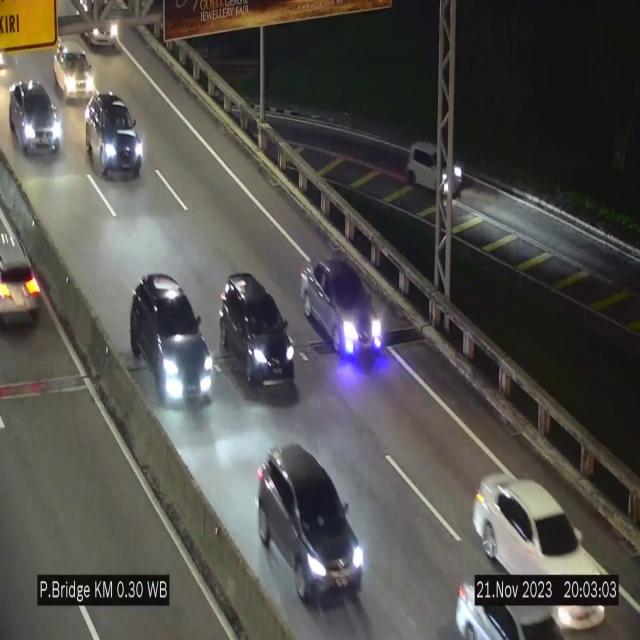Car: (474, 459, 610, 621), (256, 443, 368, 608), (132, 271, 213, 410), (448, 561, 570, 640), (220, 274, 300, 394), (300, 259, 387, 369), (0, 212, 48, 328), (405, 119, 471, 201), (86, 90, 143, 176), (10, 82, 62, 154), (53, 36, 97, 109)
